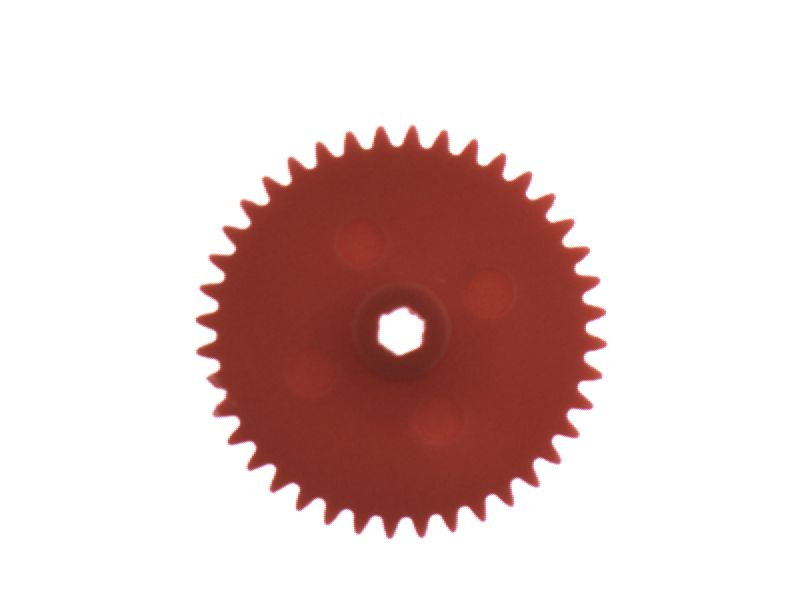defect_break: (180, 362, 234, 403)
